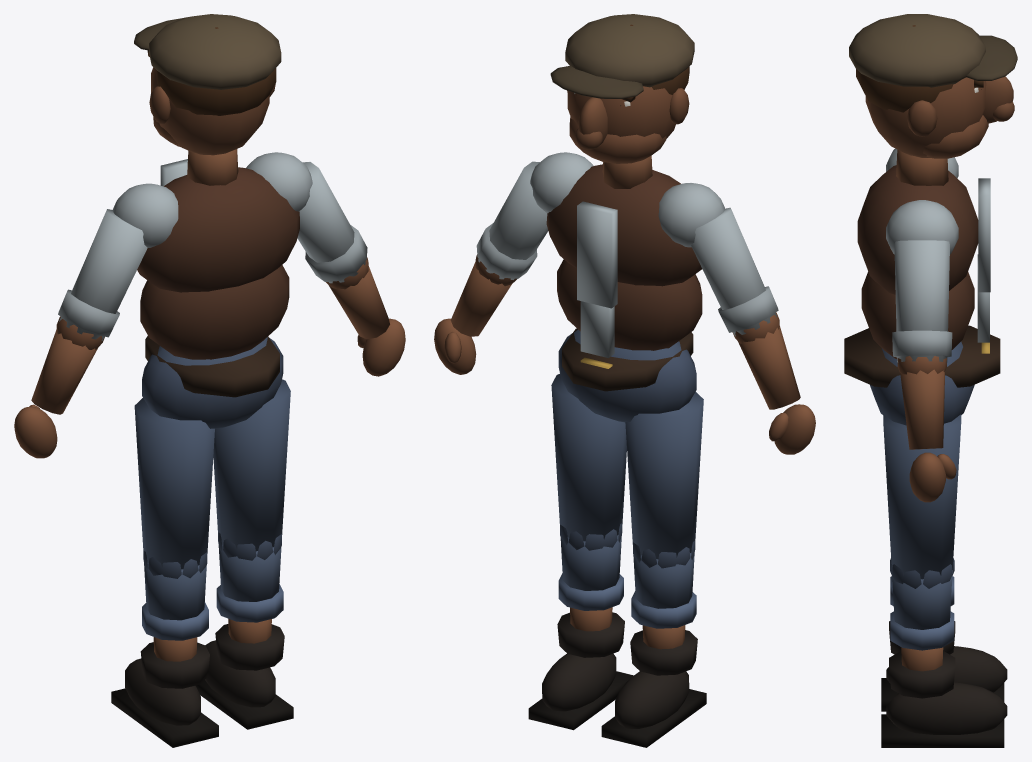
The model's file is grumete_2.glb.
The picture shows the model from 3 angles, left to right: view 1: azimuth 30°, elevation 25°; view 2: azimuth 150°, elevation 25°; view 3: azimuth 270°, elevation 25°; orthographic projection. The views are drawn at different scales.
Parts seen in each view (by area): view 1: Chest, Head, RightUpperLeg, LeftUpperLeg, Spine, Hips, LeftLowerLeg, RightLowerLeg, RightUpperArm, LeftUpperArm, RightFoot, LeftFoot (+5 smaller); view 2: Chest, Head, RightUpperLeg, LeftUpperLeg, Hips, Spine, LeftLowerLeg, RightLowerLeg, RightUpperArm, RightFoot, LeftFoot, LeftUpperArm (+5 smaller); view 3: Head, Chest, LeftUpperLeg, LeftLowerLeg, LeftFoot, LeftUpperArm, Hips, Spine, LeftForeArm, RightFoot, LeftHand, Neck (+1 smaller).
Boxes of the visible parts, x1=… form: Chest: x1=112, y1=152, x2=312, y2=292; Head: x1=134, y1=14, x2=281, y2=155; RightUpperLeg: x1=134, y1=398, x2=214, y2=569; LeftUpperLeg: x1=213, y1=379, x2=290, y2=551; Spine: x1=140, y1=265, x2=289, y2=359; Hips: x1=142, y1=336, x2=283, y2=429; LeftLowerLeg: x1=215, y1=532, x2=284, y2=670; RightLowerLeg: x1=140, y1=551, x2=209, y2=688; RightUpperArm: x1=58, y1=209, x2=147, y2=340; LeftUpperArm: x1=297, y1=162, x2=367, y2=283; RightFoot: x1=111, y1=658, x2=218, y2=747; LeftFoot: x1=195, y1=640, x2=293, y2=729; Chest: x1=530, y1=152, x2=724, y2=308; Head: x1=550, y1=14, x2=694, y2=163; RightUpperLeg: x1=625, y1=392, x2=703, y2=559; LeftUpperLeg: x1=551, y1=374, x2=626, y2=541; Hips: x1=558, y1=328, x2=696, y2=422; Spine: x1=557, y1=259, x2=702, y2=357; LeftLowerLeg: x1=557, y1=523, x2=624, y2=657; RightLowerLeg: x1=630, y1=541, x2=697, y2=675; RightUpperArm: x1=691, y1=207, x2=778, y2=336; RightFoot: x1=601, y1=671, x2=706, y2=747; LeftFoot: x1=528, y1=653, x2=633, y2=730; LeftUpperArm: x1=476, y1=161, x2=548, y2=279; Head: x1=849, y1=14, x2=1017, y2=158; Chest: x1=857, y1=148, x2=990, y2=294; LeftUpperLeg: x1=883, y1=414, x2=961, y2=579; LeftLowerLeg: x1=889, y1=558, x2=955, y2=698; LeftFoot: x1=881, y1=682, x2=1007, y2=747; LeftUpperArm: x1=892, y1=240, x2=952, y2=362; Hips: x1=844, y1=325, x2=1000, y2=425; Spine: x1=861, y1=254, x2=989, y2=358; LeftForeArm: x1=897, y1=356, x2=946, y2=449; RightFoot: x1=881, y1=646, x2=1007, y2=711; LeftHand: x1=909, y1=452, x2=956, y2=502; Neck: x1=896, y1=149, x2=948, y2=185.
Bounding box in the file's own units: 1.09 × 1.86 × 0.423.
